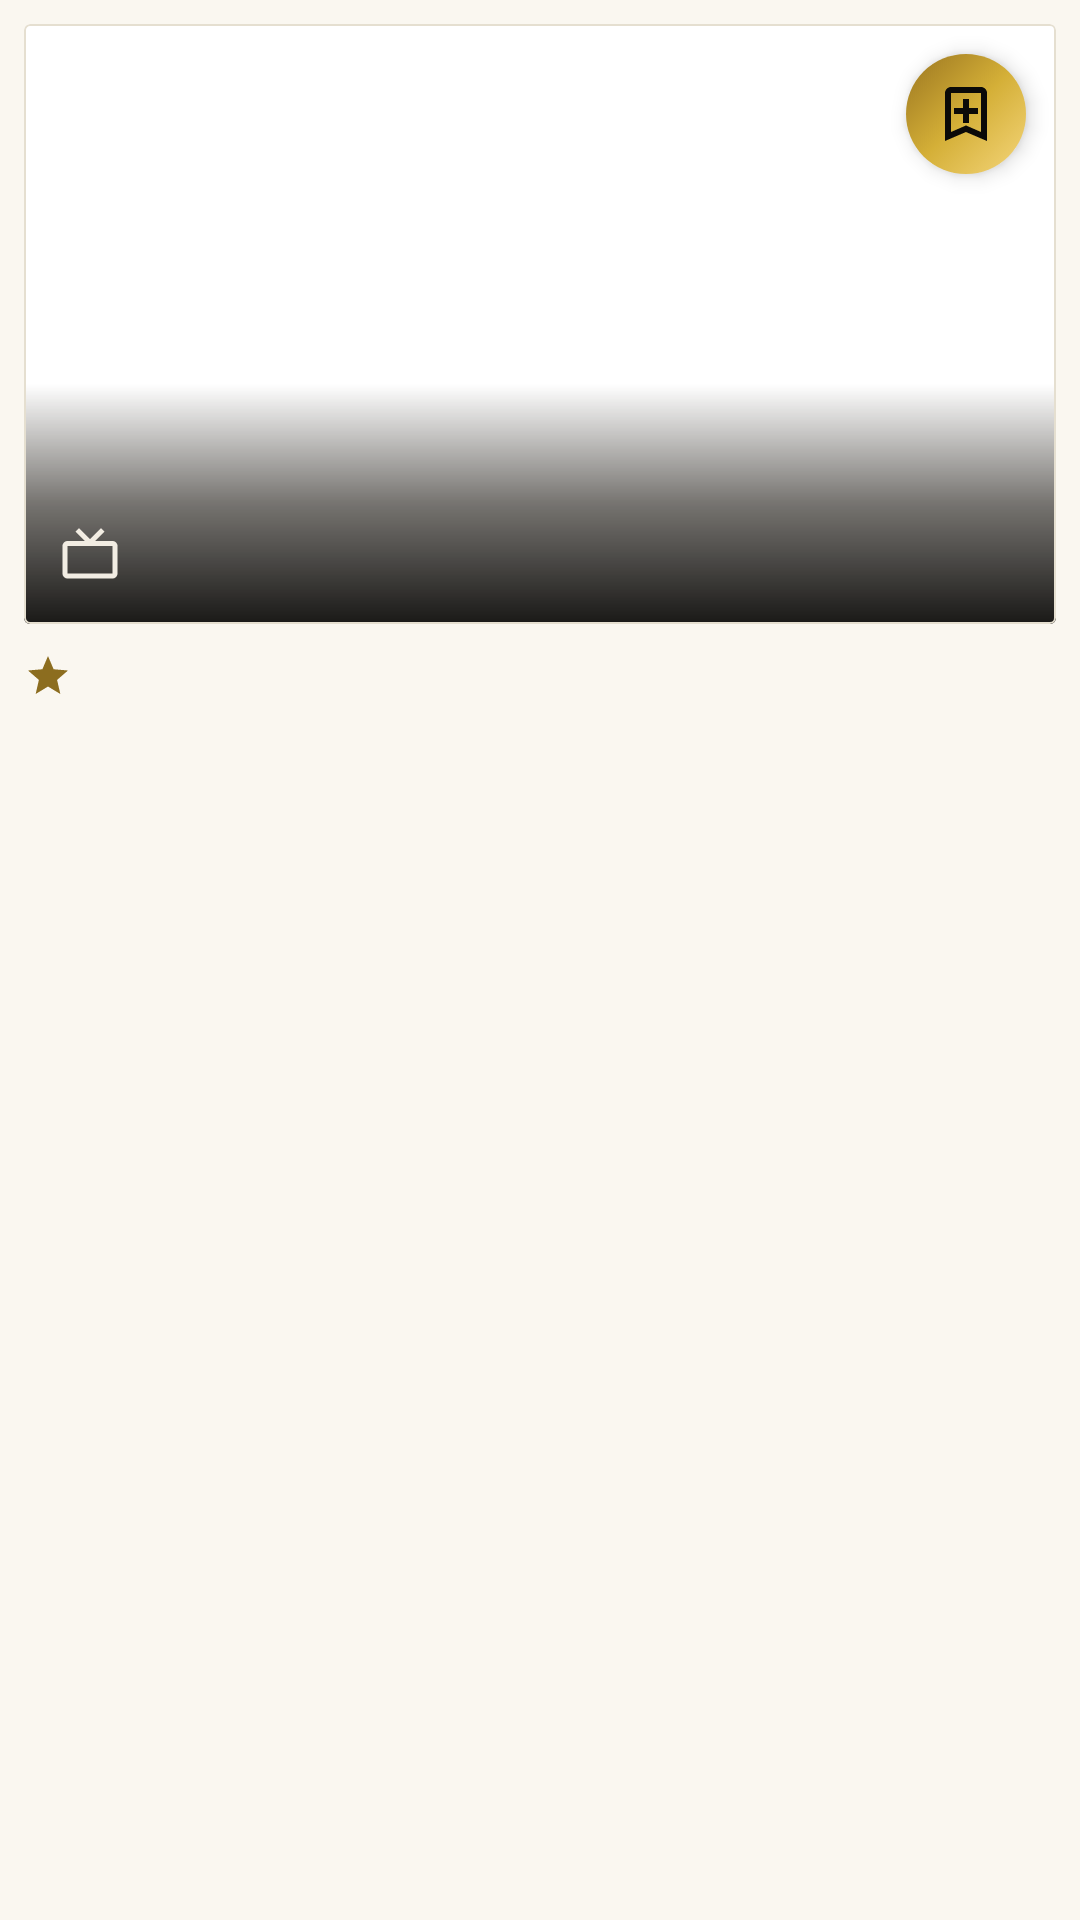

Screen size 1080*1920. Icon name, then its box in pixels as (x1, y1, x2, y2):
Añadir a pendientes: (906, 54, 1026, 174)
star: (28, 656, 68, 694)
